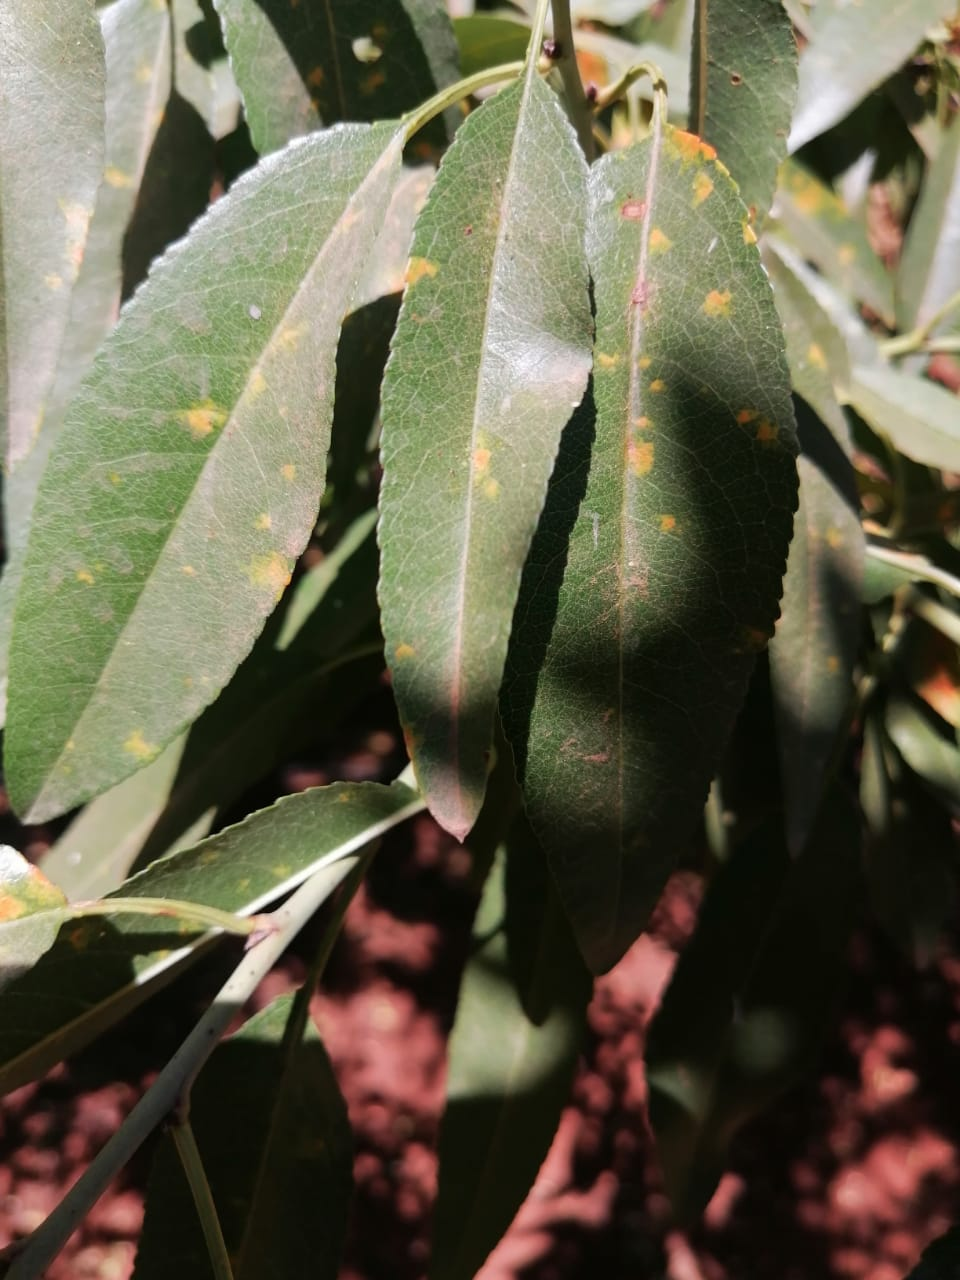polystigma: (3, 119, 406, 823), (511, 121, 803, 1026), (371, 75, 594, 842)
